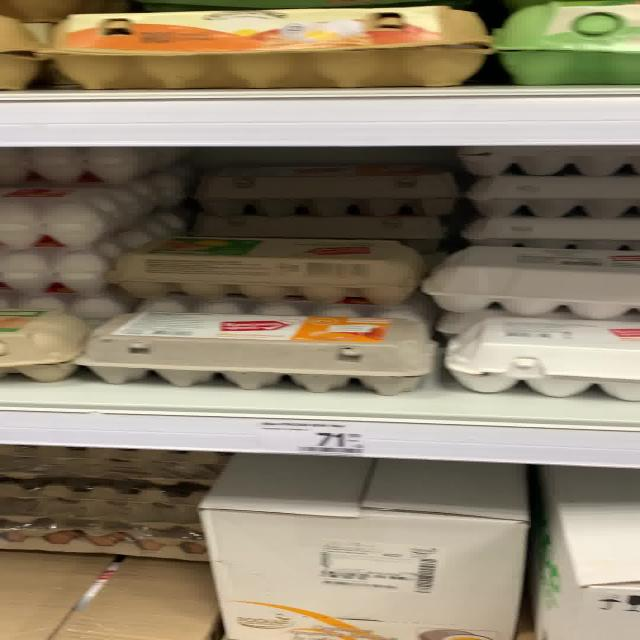egg box: (38, 5, 492, 88), (76, 297, 435, 400), (111, 225, 421, 306)
